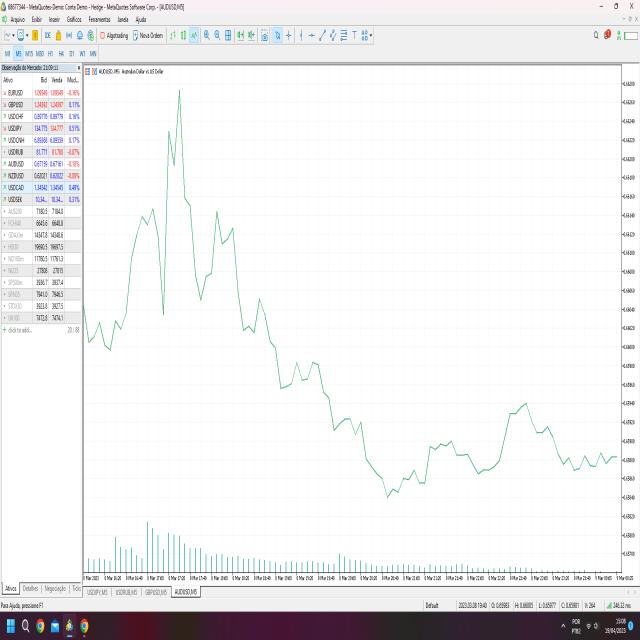bandeira_baixa: (261, 291, 320, 397)
oco: (113, 78, 248, 369)
